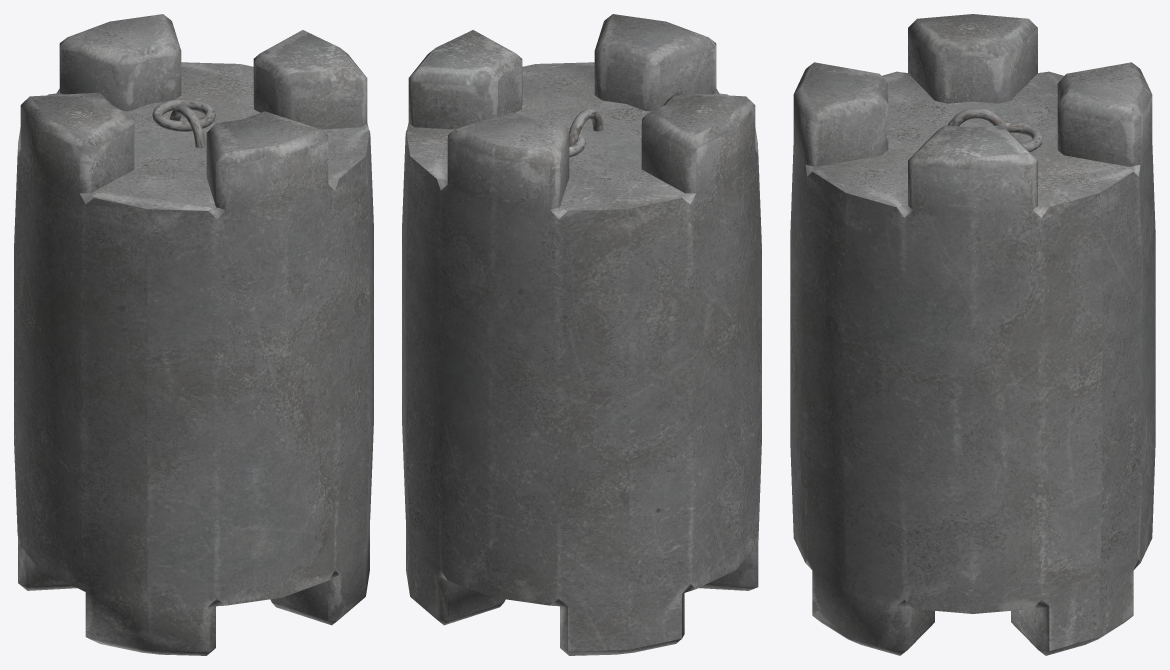
Rendered from Barrier_Cylinder.obj.
The picture shows the model from 3 angles, left to right: view 1: azimuth 30°, elevation 25°; view 2: azimuth 150°, elevation 25°; view 3: azimuth 270°, elevation 25°; orthographic projection.
Parts seen in each view (by area): view 1: Cylinder001; view 2: Cylinder001; view 3: Cylinder001.
Part boxes in pixels (box(x1,y1,x2,y2)): Cylinder001: box(14, 14, 373, 655); Cylinder001: box(402, 14, 761, 655); Cylinder001: box(790, 14, 1155, 655).
Size of the model in its own units: 21.8 by 33.3 by 21.8.
